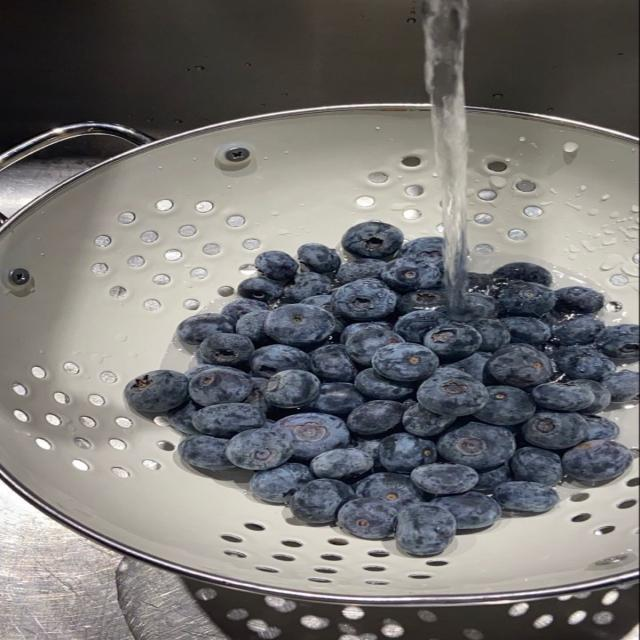blueberry: (272, 413, 349, 459), (438, 422, 515, 468), (418, 368, 488, 416), (396, 504, 456, 556), (264, 304, 334, 346), (290, 479, 354, 524), (562, 440, 632, 481), (487, 346, 553, 388), (226, 429, 292, 470), (125, 370, 189, 412), (431, 492, 501, 530), (333, 279, 396, 320), (250, 463, 314, 503), (189, 366, 252, 406), (193, 403, 264, 438), (372, 343, 438, 380), (475, 386, 536, 426), (356, 473, 423, 509), (338, 498, 396, 539), (522, 412, 586, 449), (379, 434, 437, 473), (346, 327, 403, 366), (342, 222, 403, 258), (264, 370, 320, 408), (424, 323, 481, 360), (380, 258, 442, 292), (554, 346, 616, 380), (510, 447, 563, 486), (494, 482, 559, 513), (411, 464, 478, 494), (497, 282, 555, 316), (347, 400, 403, 435), (178, 435, 234, 470), (310, 448, 373, 479), (250, 345, 309, 378), (355, 368, 414, 399), (305, 383, 364, 414), (531, 382, 594, 411), (309, 344, 357, 382), (197, 334, 254, 366), (177, 314, 234, 345), (403, 404, 455, 437), (394, 311, 447, 343), (301, 294, 345, 332), (439, 293, 496, 322), (553, 316, 604, 346), (596, 324, 639, 359), (568, 380, 611, 414), (468, 318, 510, 352), (493, 262, 552, 286), (399, 237, 443, 269), (444, 352, 490, 382), (555, 286, 604, 314), (503, 317, 551, 345), (285, 272, 331, 301), (397, 289, 447, 315), (255, 251, 298, 281), (298, 243, 340, 273), (336, 259, 386, 284), (340, 321, 392, 345), (221, 299, 268, 325), (602, 370, 639, 403), (235, 310, 270, 344), (167, 400, 200, 435), (238, 277, 284, 302), (475, 463, 512, 491), (352, 437, 381, 467), (585, 416, 620, 440), (245, 378, 268, 413), (468, 272, 495, 295), (301, 294, 332, 313), (185, 364, 211, 380)
